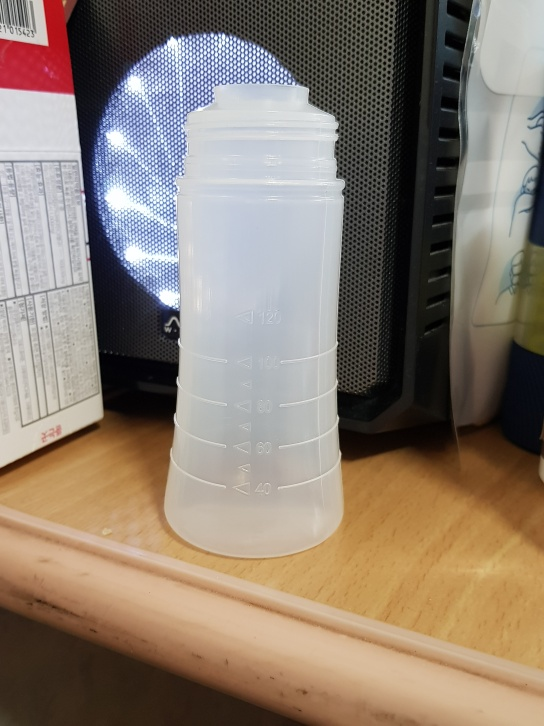Plastic: (163, 83, 348, 565)
